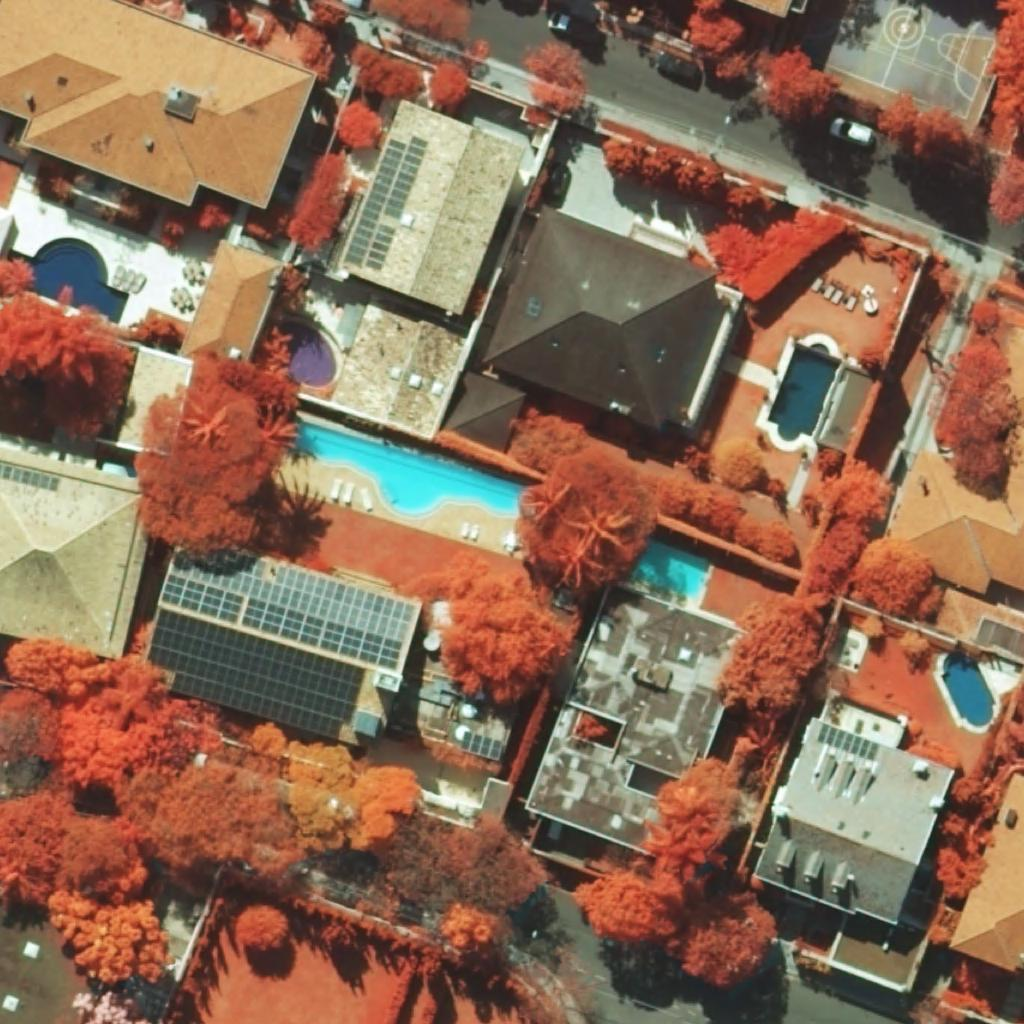pool: (291, 422, 525, 517), (9, 237, 130, 325), (767, 343, 841, 442), (941, 652, 996, 728), (635, 542, 708, 598), (282, 321, 337, 389)
